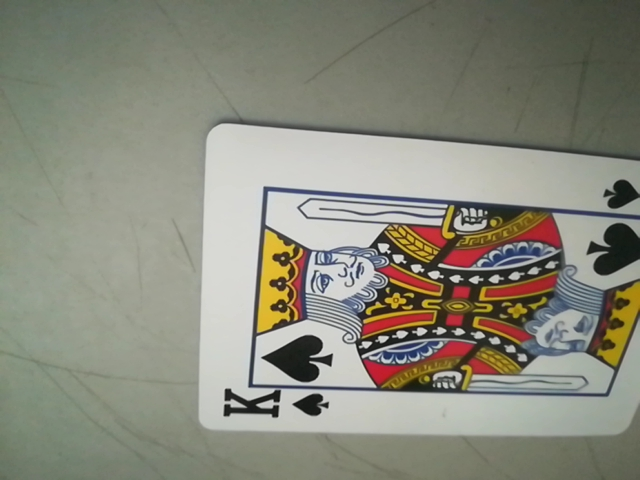ht k: (213, 384, 334, 427)
